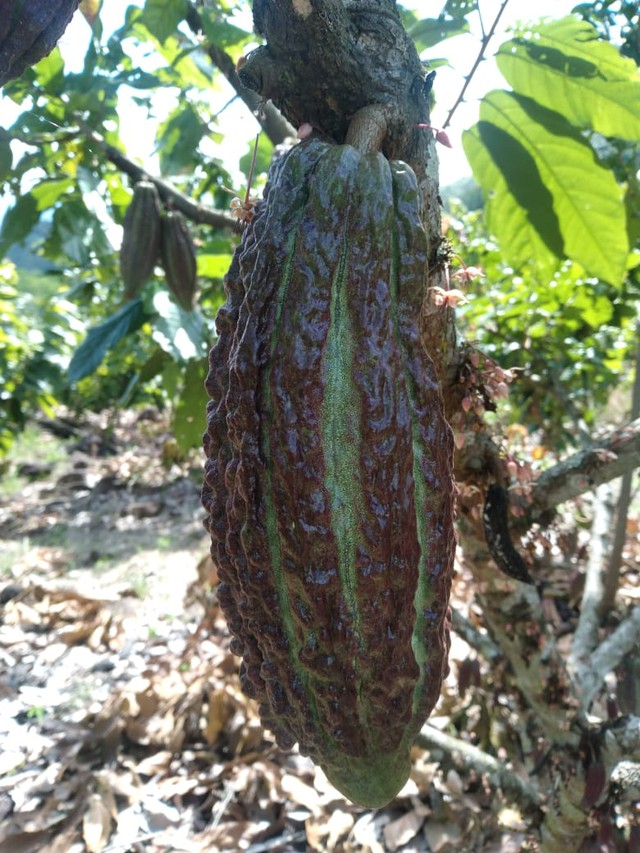Health: (156, 101, 499, 826)
